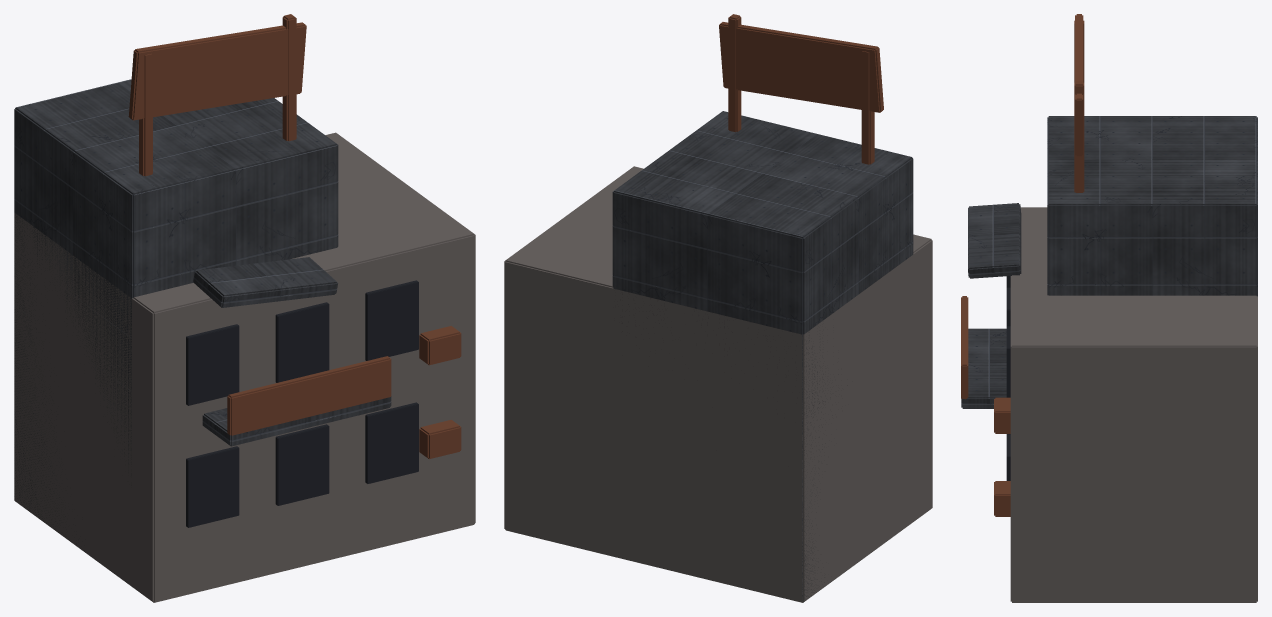
The model's file is building_ruin_b.glb.
3 views of the same model, side by side, from view 1: azimuth 30°, elevation 25°; view 2: azimuth 150°, elevation 25°; view 3: azimuth 270°, elevation 25° (orthographic). The views are drawn at different scales.
Visible parts, largest first — view 1: CoreWallA, CoreWallB, SignFrame, BalconyRail_1, Balcony_2, Win_2.2_-0.8, Win_2.2_-2.8, Win_2.2_1.2, Win_4.8_-0.8, Win_4.8_-2.8, Win_4.8_1.2, Balcony_1 (+4 smaller); view 2: CoreWallA, CoreWallB, SignFrame, SignPostL, SignPostR; view 3: CoreWallA, CoreWallB, Balcony_2, Balcony_1, SignFrame, BalconyRail_1, SignPostR, AC_1, AC_2.
Boxes of the visible parts, x1=… form: CoreWallA: x1=14, y1=132, x2=475, y2=602; CoreWallB: x1=14, y1=79, x2=338, y2=587; SignFrame: x1=128, y1=22, x2=306, y2=120; BalconyRail_1: x1=227, y1=356, x2=391, y2=435; Balcony_2: x1=193, y1=257, x2=337, y2=307; Win_2.2_-0.8: x1=275, y1=424, x2=329, y2=505; Win_2.2_-2.8: x1=186, y1=446, x2=239, y2=527; Win_2.2_1.2: x1=365, y1=402, x2=418, y2=483; Win_4.8_-0.8: x1=275, y1=302, x2=329, y2=382; Win_4.8_-2.8: x1=186, y1=324, x2=239, y2=405; Win_4.8_1.2: x1=365, y1=280, x2=418, y2=360; Balcony_1: x1=202, y1=396, x2=391, y2=446; CoreWallA: x1=504, y1=166, x2=932, y2=602; CoreWallB: x1=612, y1=111, x2=913, y2=602; SignFrame: x1=719, y1=22, x2=883, y2=112; SignPostL: x1=861, y1=51, x2=874, y2=164; SignPostR: x1=728, y1=14, x2=741, y2=132; CoreWallA: x1=1010, y1=207, x2=1257, y2=602; CoreWallB: x1=1047, y1=116, x2=1257, y2=296; Balcony_2: x1=968, y1=203, x2=1021, y2=278; Balcony_1: x1=961, y1=328, x2=1006, y2=408; SignFrame: x1=1075, y1=14, x2=1083, y2=156; BalconyRail_1: x1=961, y1=296, x2=968, y2=399; SignPostR: x1=1074, y1=81, x2=1084, y2=192; AC_1: x1=994, y1=397, x2=1010, y2=433; AC_2: x1=994, y1=481, x2=1010, y2=516.
Bounding box in the file's own units: 7.2 × 11.07 × 6.48.
4 materials, 1 textured.
